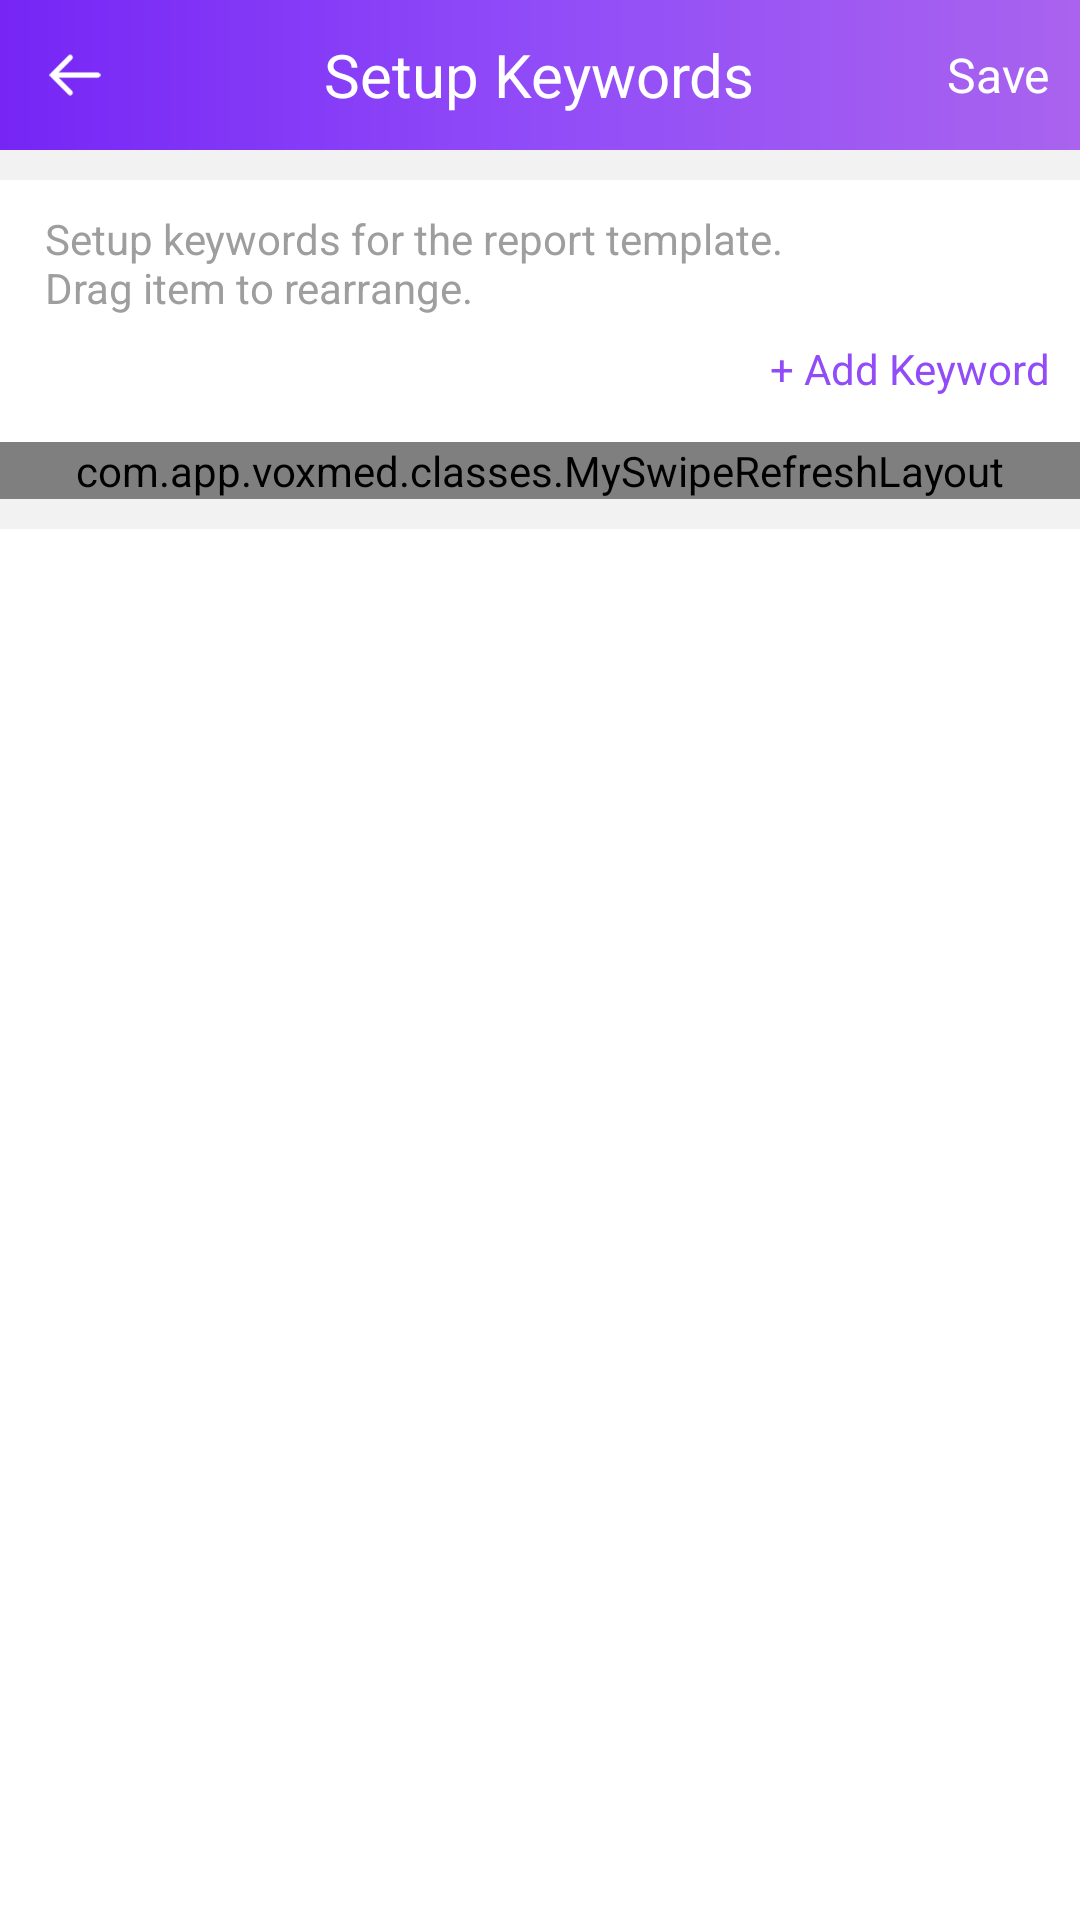

Locate icon controls on the screen. Image size 1080px x 1920px, boxes as box(x1, y1, x2, y2).
leftarrow: box(49, 54, 101, 96)
